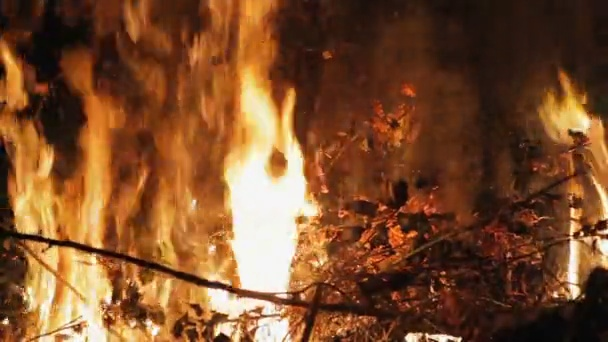fire: (5, 1, 323, 342), (535, 84, 589, 139), (594, 180, 608, 254), (568, 219, 578, 298), (404, 329, 464, 342)
